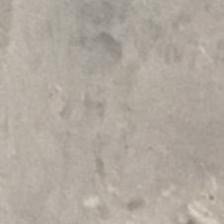Non_Crack: (13, 12, 224, 224)
